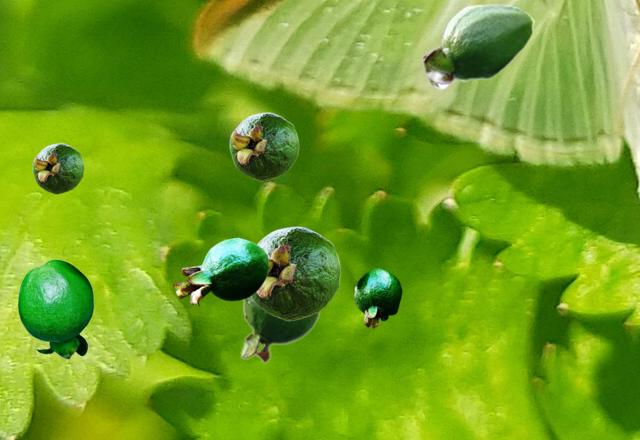guava: (422, 3, 534, 89), (250, 226, 340, 320), (17, 259, 93, 358), (173, 237, 268, 305), (240, 298, 319, 363), (229, 112, 298, 180), (354, 268, 401, 327), (32, 143, 83, 193)
